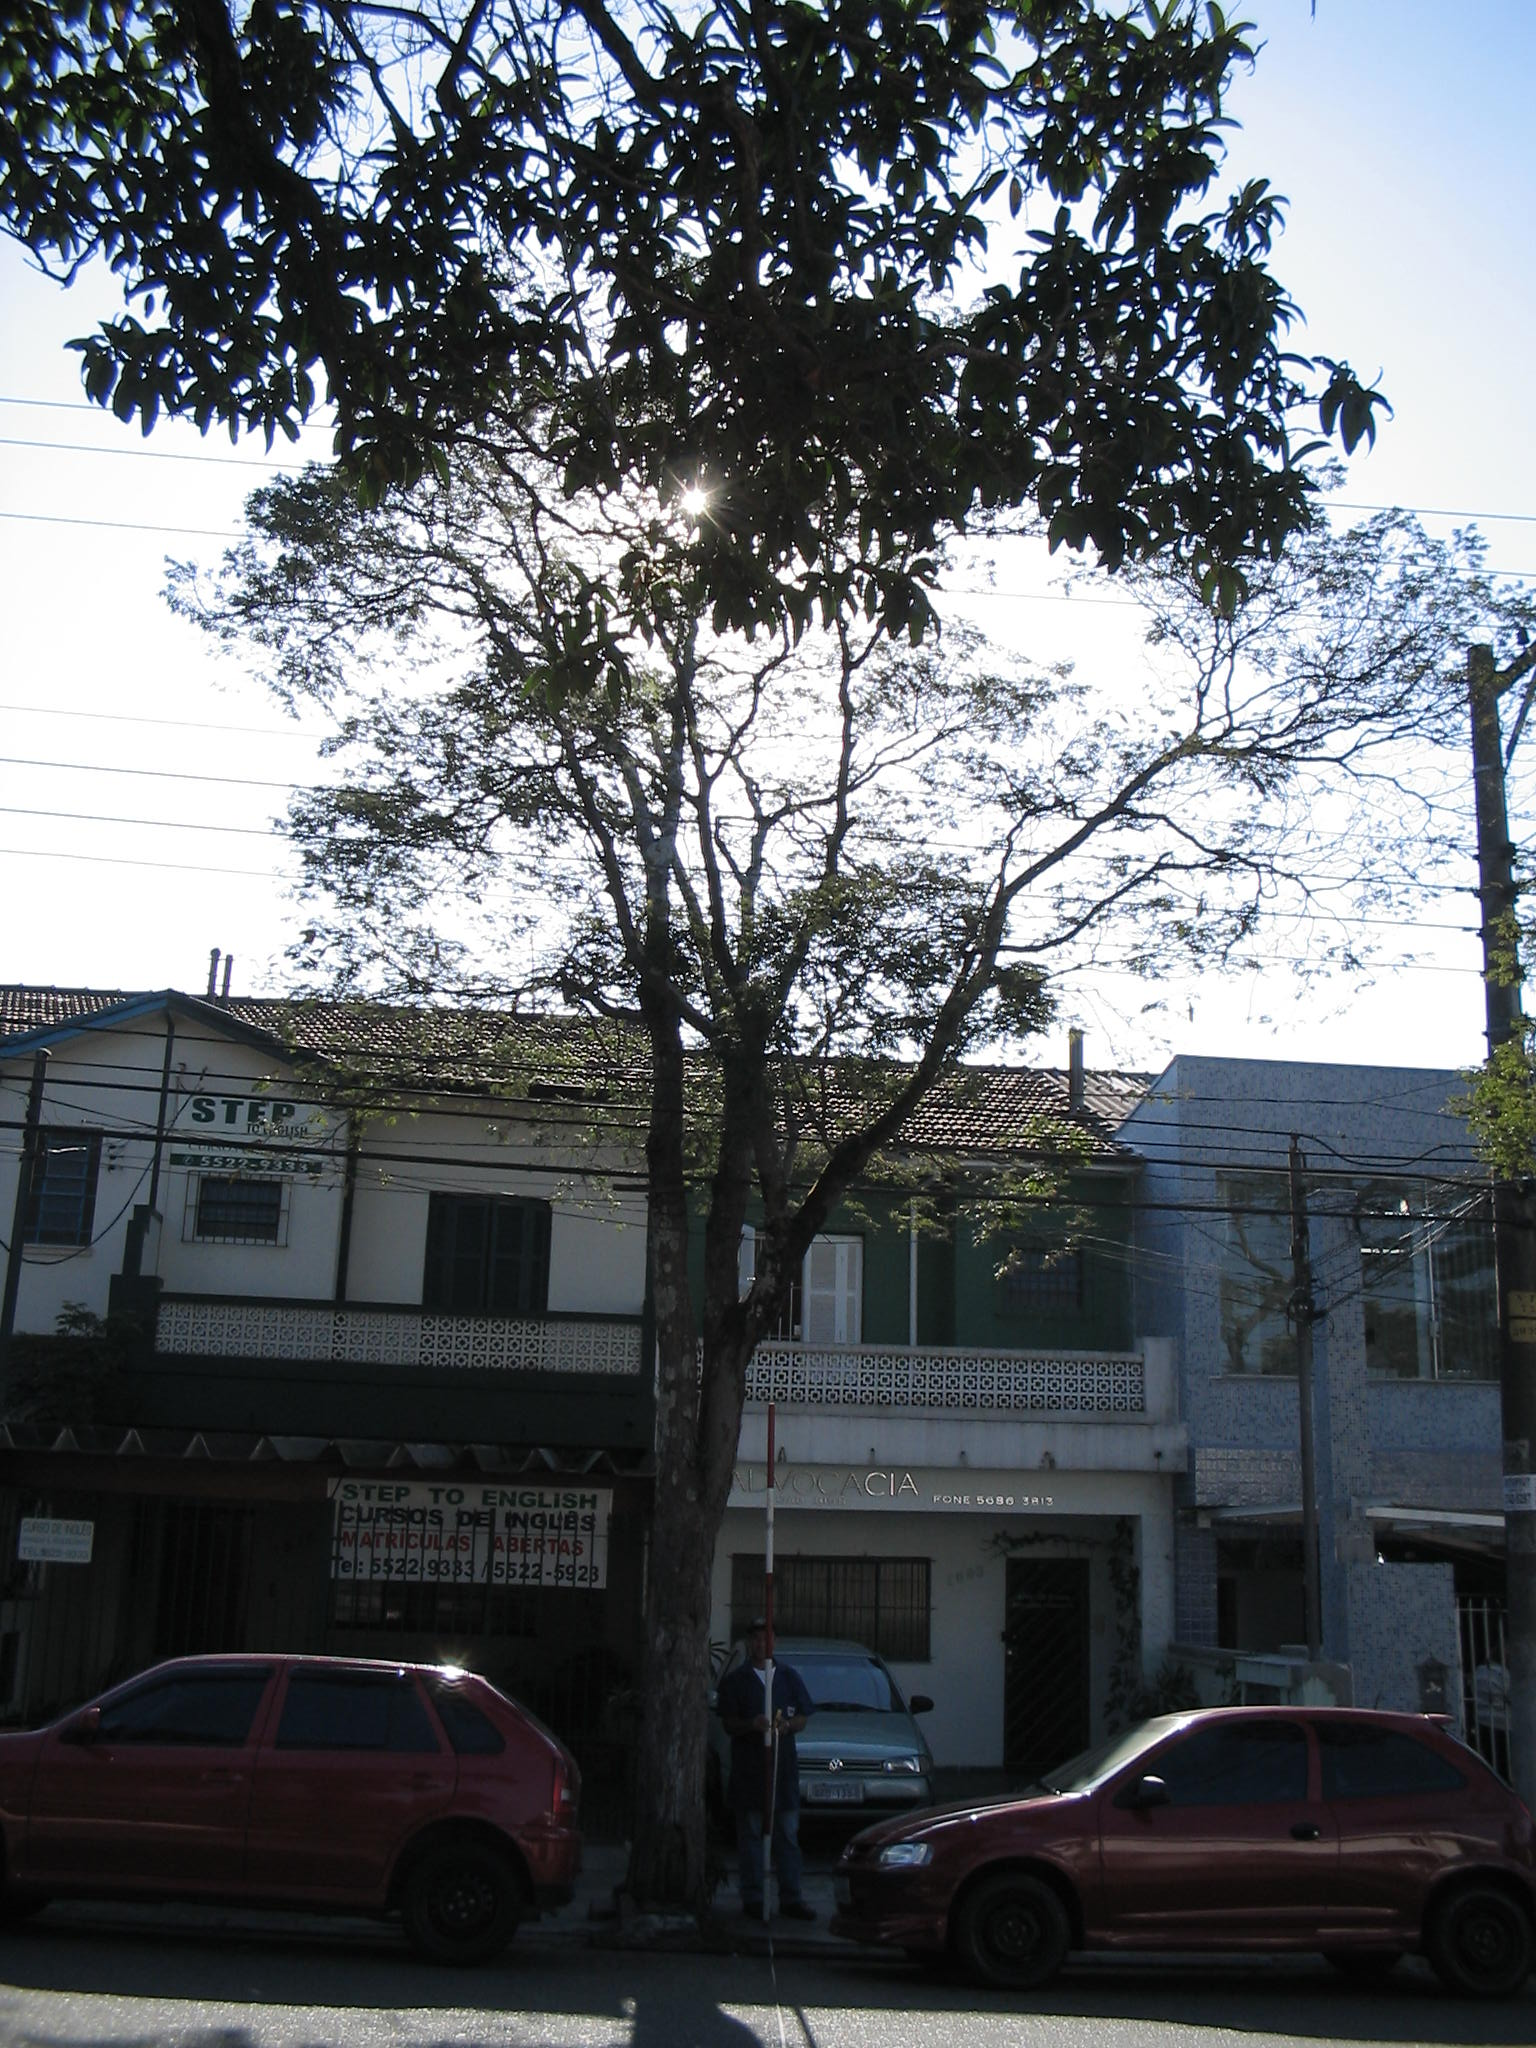crown: (8, 6, 1379, 701)
stem: (587, 1501, 745, 1922)
stick: (742, 1398, 791, 1935)
tree: (6, 6, 1392, 1927)
